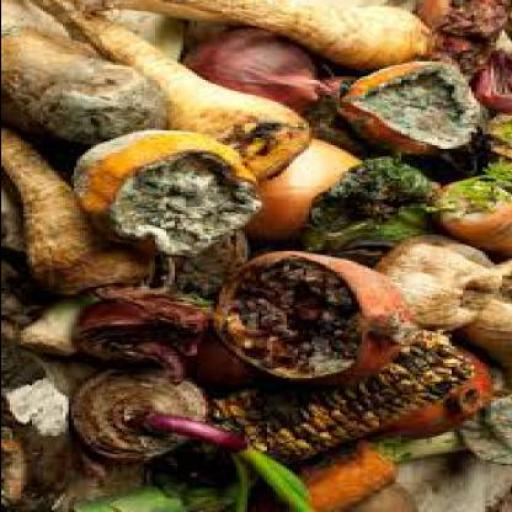biodegradable: (3, 2, 316, 180), (192, 334, 476, 475), (16, 230, 252, 358), (3, 129, 157, 301), (72, 130, 266, 261), (3, 339, 151, 510), (3, 2, 171, 146), (101, 2, 439, 71), (308, 150, 510, 260), (137, 416, 316, 512), (243, 140, 375, 248), (67, 368, 212, 464), (342, 60, 486, 156), (182, 32, 339, 119), (240, 439, 412, 511), (369, 344, 495, 440), (67, 300, 212, 383), (375, 237, 495, 333), (389, 385, 511, 469), (417, 2, 509, 78), (433, 182, 511, 264), (464, 260, 512, 376), (98, 2, 240, 26), (475, 32, 511, 117), (486, 113, 511, 164)
